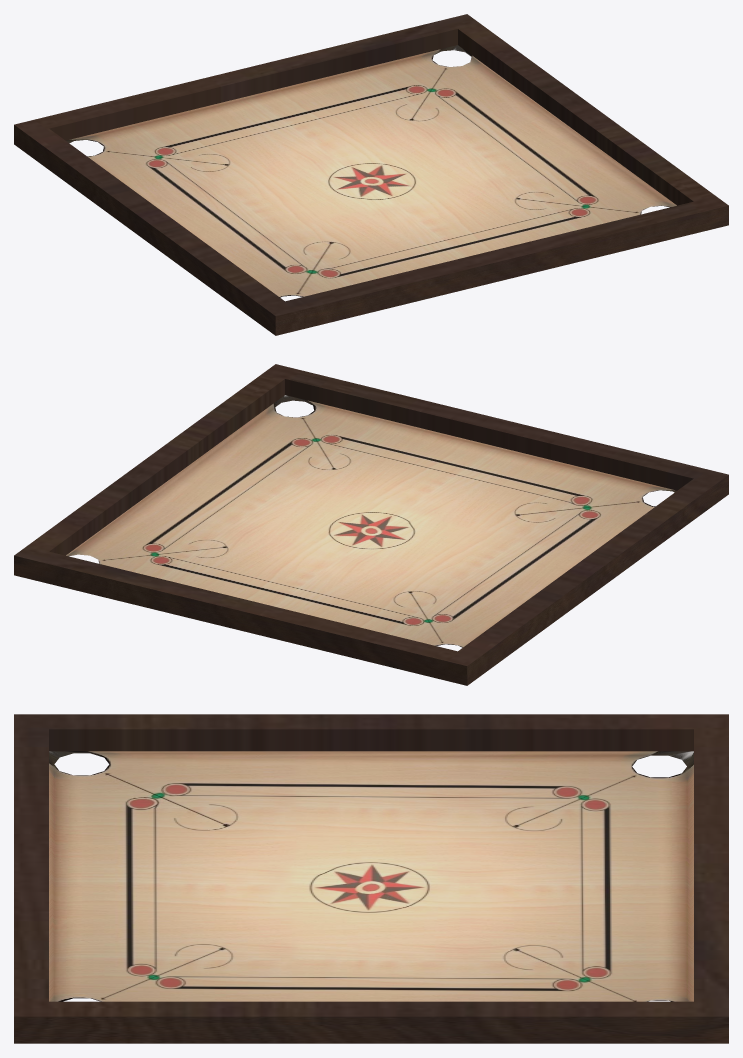
File: board1.glb
3 renders of one model, top to bottom at view 1: azimuth 30°, elevation 25°; view 2: azimuth 150°, elevation 25°; view 3: azimuth 270°, elevation 25°, orthographic. The views are drawn at different scales.
Parts seen in each view (by area): view 1: Cube; view 2: Cube; view 3: Cube.
Part boxes in pixels (x1,y1,x2,y2): Cube: (14,14,728,335); Cube: (14,364,728,685); Cube: (14,714,728,1043).
Bounding box in the file's own units: 4.27 × 0.1774 × 4.27.
2 materials, 2 textured.
